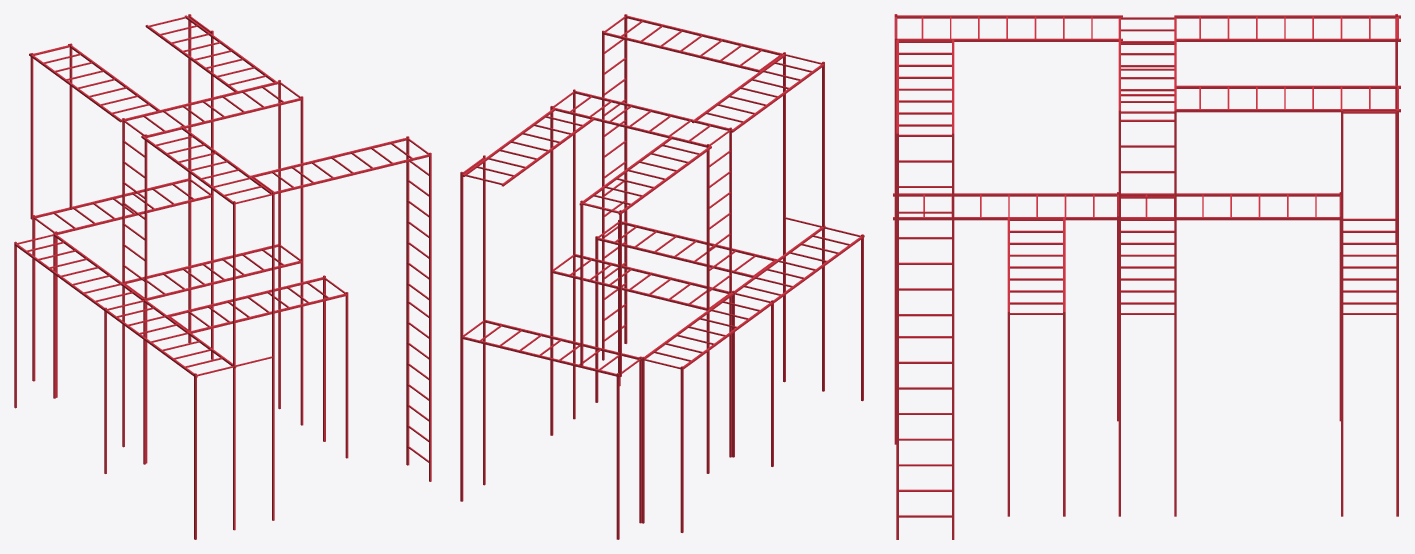
File: MonkeyBars.fbx
3 renders of one model, left to right at view 1: azimuth 30°, elevation 25°; view 2: azimuth 150°, elevation 25°; view 3: azimuth 270°, elevation 25°, orthographic. The views are drawn at different scales.
Visible parts, largest first — view 1: MonkeyBars; view 2: MonkeyBars; view 3: MonkeyBars.
Part boxes in pixels (x1,y1,x2,y2): MonkeyBars: (14, 14, 431, 539); MonkeyBars: (460, 14, 864, 539); MonkeyBars: (893, 14, 1400, 539).
Size of the model in its own units: 610 by 807 by 914.
